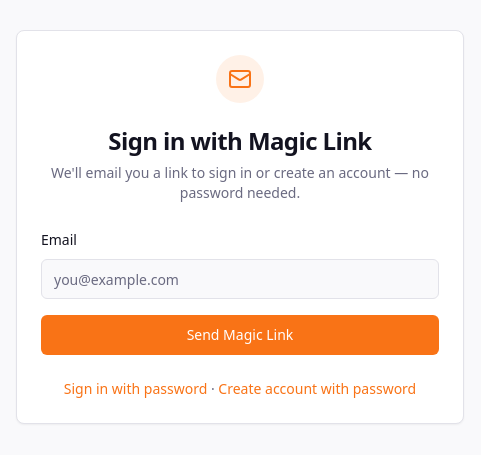
MagicLinkPage › request form › shows validation error for invalid email
Submit with empty email to trigger zod validation without native form constraint
Click the button "Send Magic Link".
click(240, 335)  # box top-left (41, 315), bottom-right (439, 355)
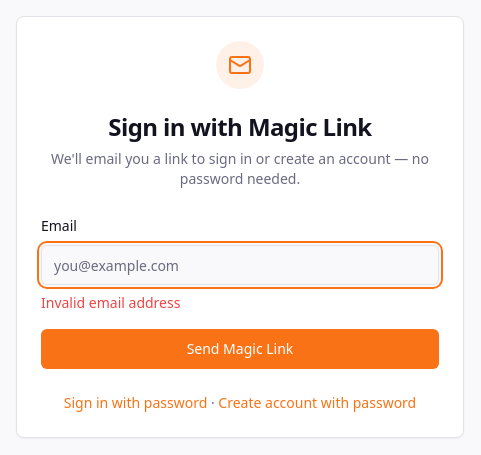
Check: the text "Invalid email address" is shown, box top-left (41, 293), bottom-right (180, 312)
